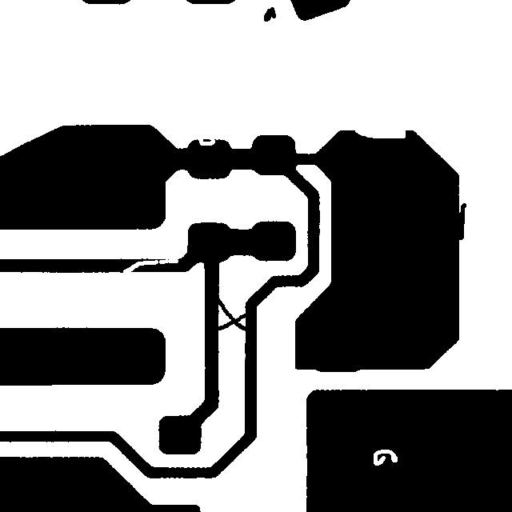copper: (256, 0, 283, 29)
mousebite: (353, 119, 410, 143), (190, 129, 222, 153)
open: (115, 251, 186, 282)
pin-hole: (366, 442, 405, 473)
short: (206, 290, 260, 339)
spur: (449, 195, 474, 247)
